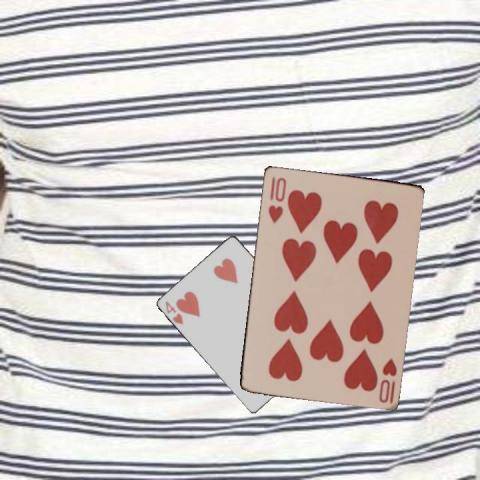10h: (265, 173, 287, 225), (375, 355, 398, 404)
4h: (162, 298, 184, 325)
